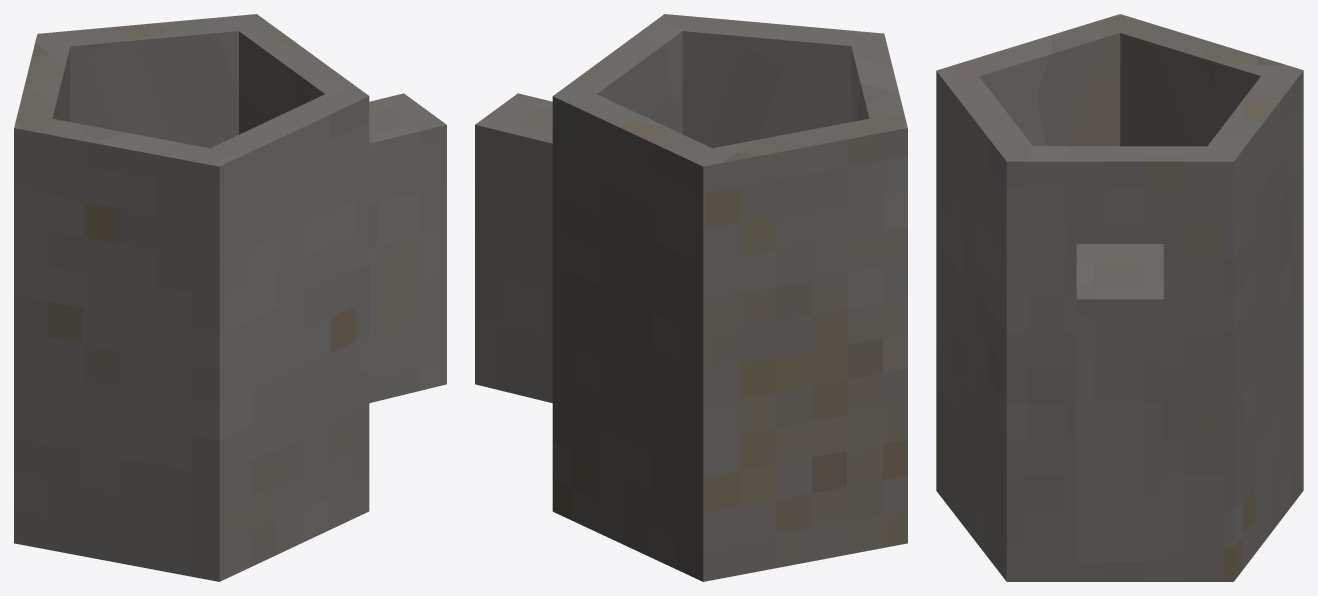
File: Cup01.obj
3 renders of one model, left to right at view 1: azimuth 30°, elevation 25°; view 2: azimuth 150°, elevation 25°; view 3: azimuth 270°, elevation 25°, orthographic.
Parts seen in each view (by area): view 1: Cup01; view 2: Cup01; view 3: Cup01.
Part boxes in pixels (<box>): Cup01: <box>14,14,446,581</box>; Cup01: <box>475,14,907,581</box>; Cup01: <box>936,14,1303,581</box>.
Size of the model in its own units: 0.2487 by 0.24 by 0.1902.
